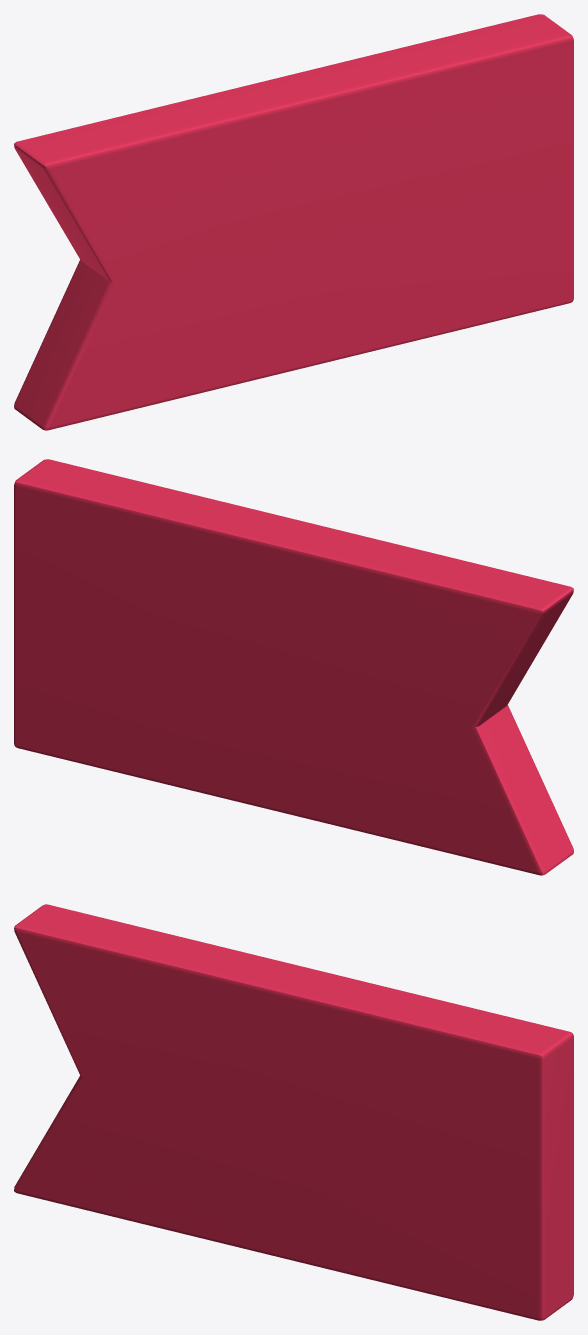
The model's file is label.fbx.
3 views of the same model, one above another, from view 1: azimuth 30°, elevation 25°; view 2: azimuth 150°, elevation 25°; view 3: azimuth 330°, elevation 25° (orthographic).
Parts seen in each view (by area): view 1: label; view 2: label; view 3: label.
Boxes of the visible parts, x1=… form: label: x1=14, y1=14, x2=573, y2=430; label: x1=14, y1=459, x2=573, y2=875; label: x1=14, y1=904, x2=573, y2=1320.
Bounding box in the file's own units: 64.41 × 31.11 × 6.99.
1 material, 1 textured.
